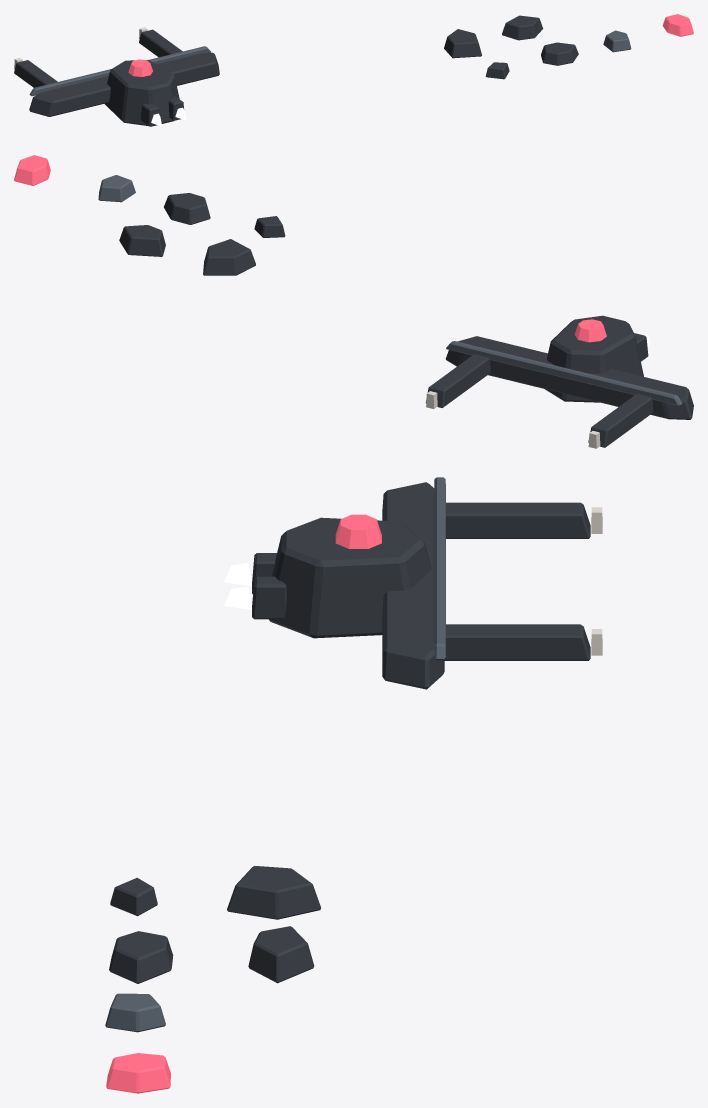
File: Enemy_Gunner_v4.fbx
3 views of the same model, one above another, from view 1: azimuth 30°, elevation 25°; view 2: azimuth 150°, elevation 25°; view 3: azimuth 270°, elevation 25° (orthographic). The views are drawn at different scales.
Visible parts, largest first — view 1: Crossbeam, Body, Trim_Beam, Enemy_Gunner_v4_Chunk_05, Enemy_Gunner_v4_Chunk_06, Enemy_Gunner_v4_Chunk_02, Barrel_R, Barrel_L, Enemy_Gunner_v4_Chunk_04, Enemy_Gunner_v4_Chunk_03, Core, Enemy_Gunner_v4_Chunk_01 (+2 smaller); view 2: Crossbeam, Body, Trim_Beam, Barrel_R, Barrel_L, Enemy_Gunner_v4_Chunk_05, Enemy_Gunner_v4_Chunk_06, Enemy_Gunner_v4_Chunk_02, Enemy_Gunner_v4_Chunk_04, Enemy_Gunner_v4_Chunk_03, Core, Enemy_Gunner_v4_Chunk_01; view 3: Body, Crossbeam, Barrel_R, Barrel_L, Enemy_Gunner_v4_Chunk_05, Enemy_Gunner_v4_Chunk_06, Enemy_Gunner_v4_Chunk_02, Enemy_Gunner_v4_Chunk_04, Trim_Beam, Enemy_Gunner_v4_Chunk_03, Thruster_R, Core (+1 smaller).
Part boxes in pixels (box(x1,y1,x2,y2)): Crossbeam: box(29, 52, 219, 116); Body: box(104, 60, 179, 126); Trim_Beam: box(29, 46, 210, 96); Enemy_Gunner_v4_Chunk_05: box(444, 29, 481, 58); Enemy_Gunner_v4_Chunk_06: box(502, 15, 543, 40); Enemy_Gunner_v4_Chunk_02: box(541, 42, 578, 65); Barrel_R: box(139, 29, 182, 57); Barrel_L: box(14, 60, 57, 87); Enemy_Gunner_v4_Chunk_04: box(662, 14, 693, 36); Enemy_Gunner_v4_Chunk_03: box(603, 30, 631, 52); Core: box(128, 59, 152, 76); Enemy_Gunner_v4_Chunk_01: box(485, 62, 509, 79); Crossbeam: box(445, 336, 693, 419); Body: box(545, 315, 643, 402); Trim_Beam: box(446, 341, 682, 405); Barrel_R: box(425, 354, 490, 407); Barrel_L: box(588, 394, 653, 447); Enemy_Gunner_v4_Chunk_05: box(203, 239, 255, 275); Enemy_Gunner_v4_Chunk_06: box(119, 225, 165, 256); Enemy_Gunner_v4_Chunk_02: box(164, 193, 210, 224); Enemy_Gunner_v4_Chunk_04: box(14, 155, 50, 185); Enemy_Gunner_v4_Chunk_03: box(98, 175, 135, 202); Core: box(574, 319, 606, 342); Enemy_Gunner_v4_Chunk_01: box(254, 216, 285, 237); Body: box(269, 517, 431, 638); Crossbeam: box(382, 482, 444, 689); Barrel_R: box(444, 624, 590, 660); Barrel_L: box(445, 502, 590, 538); Enemy_Gunner_v4_Chunk_05: box(227, 866, 320, 919); Enemy_Gunner_v4_Chunk_06: box(248, 926, 314, 983); Enemy_Gunner_v4_Chunk_02: box(109, 931, 173, 983); Enemy_Gunner_v4_Chunk_04: box(106, 1053, 170, 1093); Trim_Beam: box(434, 477, 445, 660); Enemy_Gunner_v4_Chunk_03: box(105, 993, 165, 1032); Thruster_R: box(252, 576, 286, 619); Core: box(335, 514, 381, 548).
Size of the model in its own units: 5.86 by 0.42 by 2.14.
